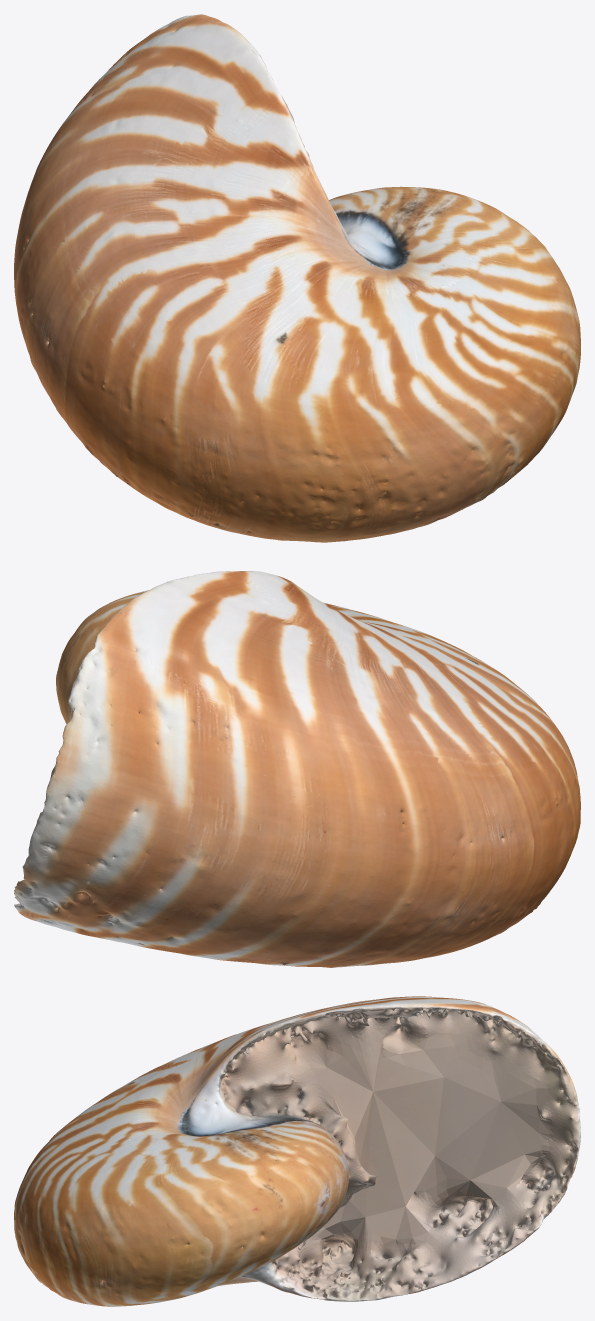
File: MZUR3D-047.glb
The picture shows the model from 3 angles, top to bottom: view 1: azimuth 30°, elevation 25°; view 2: azimuth 150°, elevation 25°; view 3: azimuth 270°, elevation 25°; orthographic projection. The views are drawn at different scales.
Visible parts, largest first — view 1: MZUR3D-047; view 2: MZUR3D-047; view 3: MZUR3D-047.
Boxes of the visible parts, <box> form: MZUR3D-047: <box>14,14,580,542</box>; MZUR3D-047: <box>14,571,580,967</box>; MZUR3D-047: <box>14,996,580,1306</box>.
Bounding box in the file's own units: 1.1 × 0.8373 × 1.41.
Materials: 1 (1 with a texture image).
